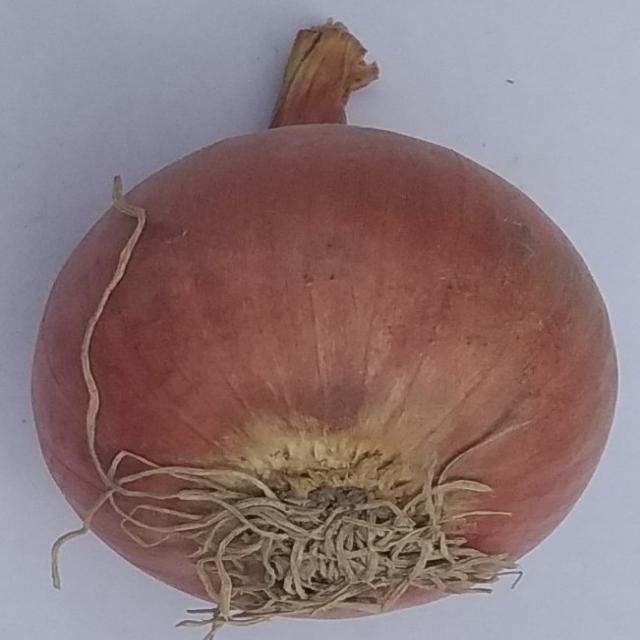onion: (28, 19, 622, 633)
